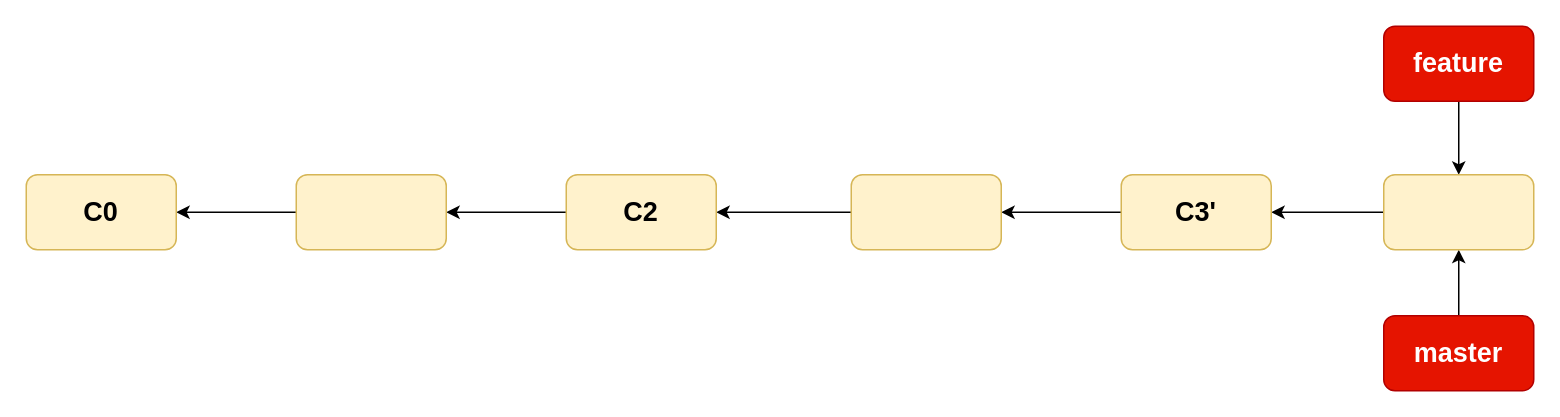
The diagram is 1560 pixels wide and 417 high, and some of its shapes have lost their labels. The centre of each missing label's shape, as x and y in pixels:
"C1" goes at [370,211].
"C4" goes at [925,211].
"C5'" goes at [1458,211].
